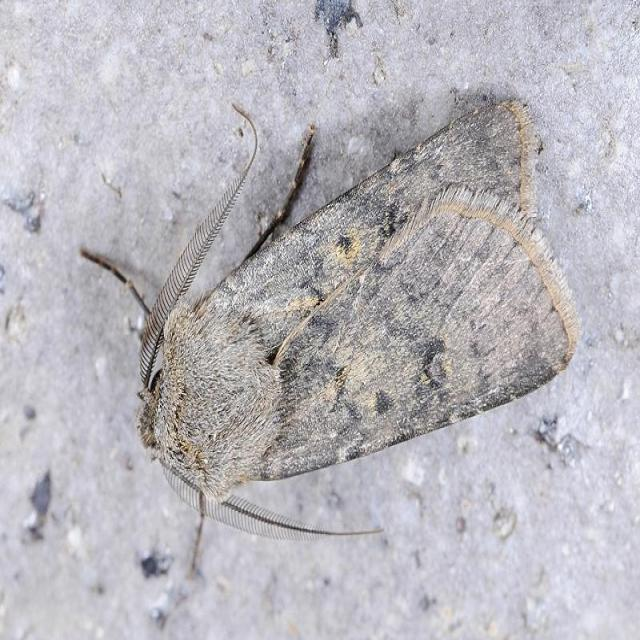black cutworm: (121, 92, 583, 527)
